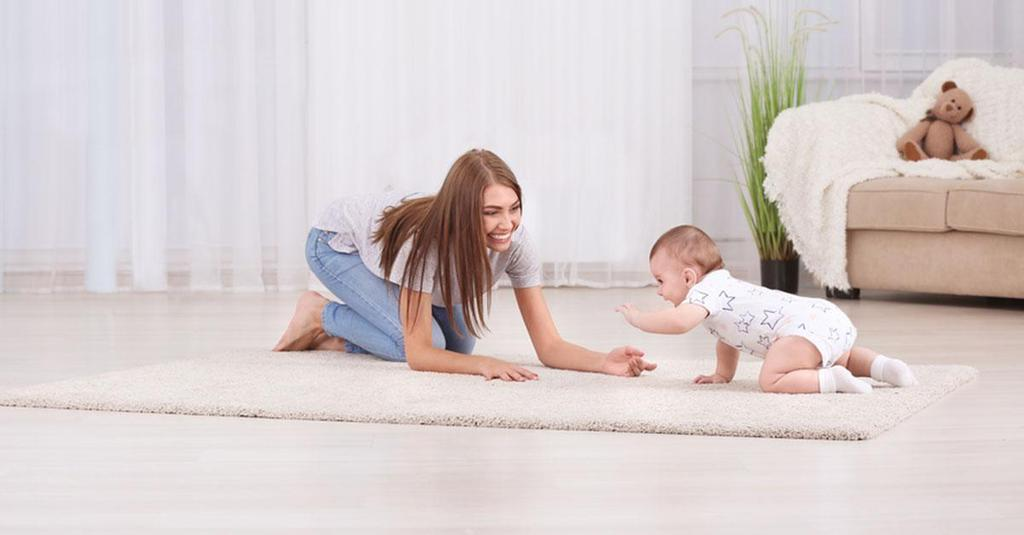child: (620, 220, 935, 403)
